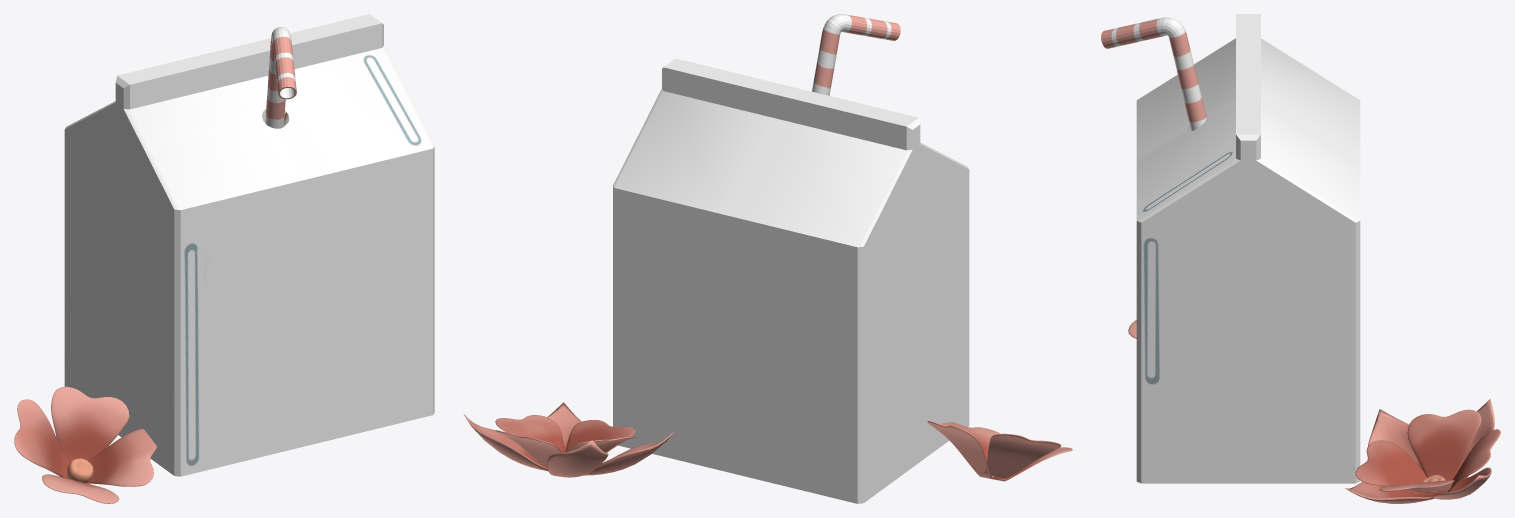
Rendered from Jugo_Final.fbx.
3 renders of one model, left to right at view 1: azimuth 30°, elevation 25°; view 2: azimuth 150°, elevation 25°; view 3: azimuth 270°, elevation 25°, orthographic. The views are drawn at different scales.
Parts seen in each view (by area): view 1: Cajita, Flores, Planetas_estrellas; view 2: Cajita, Flores, Planetas_estrellas; view 3: Cajita, Flores, Planetas_estrellas.
Part boxes in pixels (x1,y1,x2,y2): Cajita: (64, 14, 434, 476); Flores: (14, 386, 156, 503); Planetas_estrellas: (265, 26, 296, 128); Cajita: (613, 58, 969, 503); Flores: (464, 402, 1072, 481); Planetas_estrellas: (812, 14, 900, 95); Cajita: (1136, 14, 1360, 483); Flores: (1128, 320, 1500, 503); Planetas_estrellas: (1101, 17, 1206, 130).
Size of the model in its own units: 119 by 101 by 87.67.
